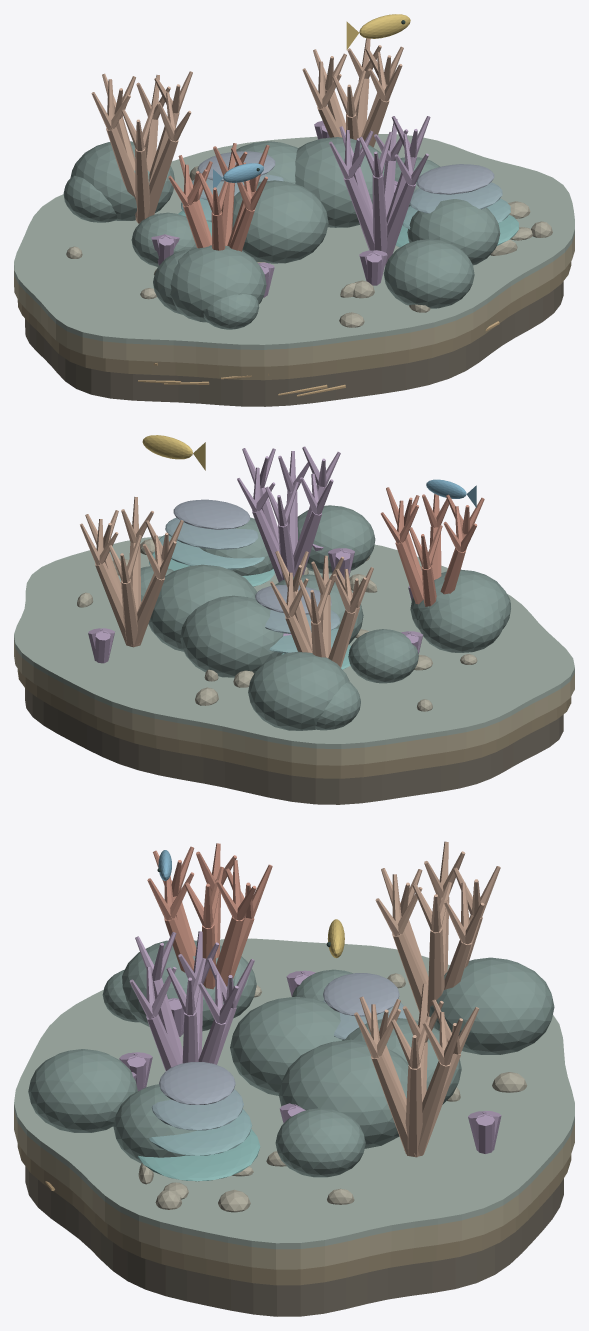
The model's file is coral.glb.
The picture shows the model from 3 angles, top to bottom: view 1: azimuth 30°, elevation 25°; view 2: azimuth 150°, elevation 25°; view 3: azimuth 270°, elevation 25°; orthographic projection. The views are drawn at different scales.
Visible parts, largest first — view 1: world; view 2: world; view 3: world.
Boxes of the visible parts, x1,y1,x2,y2 form: world: (14, 14, 574, 406); world: (14, 435, 574, 804); world: (14, 841, 574, 1316).
Bounding box in the file's own units: 1.8 × 0.8586 × 1.4.
